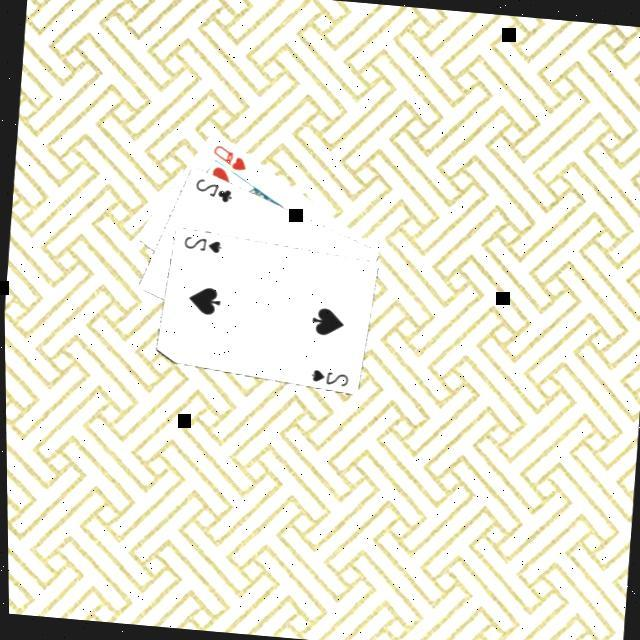2C: (188, 176, 234, 208)
2S: (304, 367, 350, 392), (177, 234, 223, 258)
QH: (206, 142, 248, 175)
